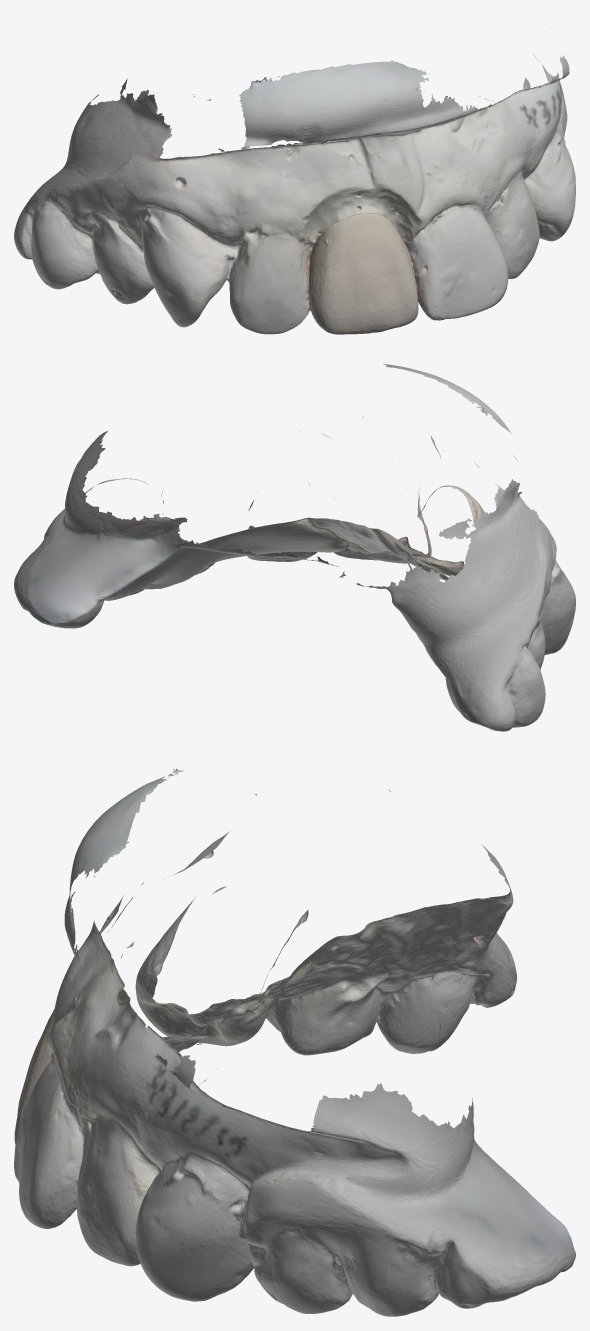
File: emax crown with model LowerJawScan LowerJawScan2.glb
The picture shows the model from 3 angles, top to bottom: view 1: azimuth 30°, elevation 25°; view 2: azimuth 150°, elevation 25°; view 3: azimuth 270°, elevation 25°; orthographic projection. The views are drawn at different scales.
Size of the model in its own units: 0.054 by 0.0245 by 0.0362.
